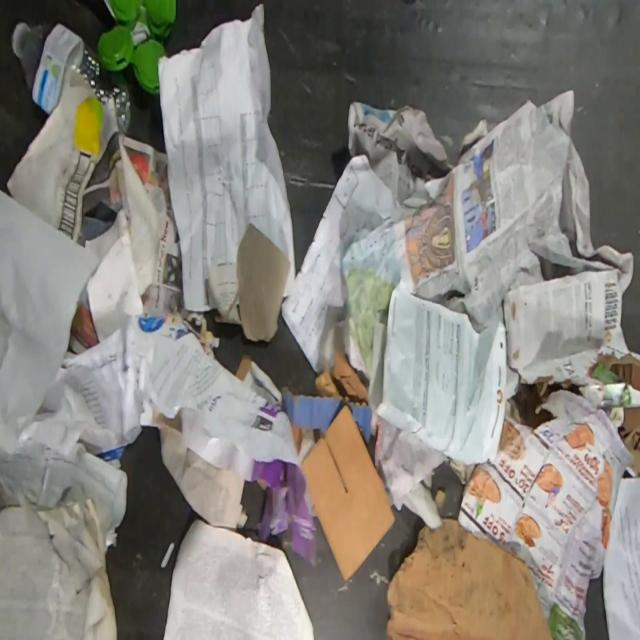cardboard: (384, 516, 554, 640), (234, 333, 376, 465), (298, 404, 396, 583), (586, 353, 640, 391), (618, 407, 640, 477)
rigid_plastic: (12, 20, 130, 131), (95, 0, 180, 94)
